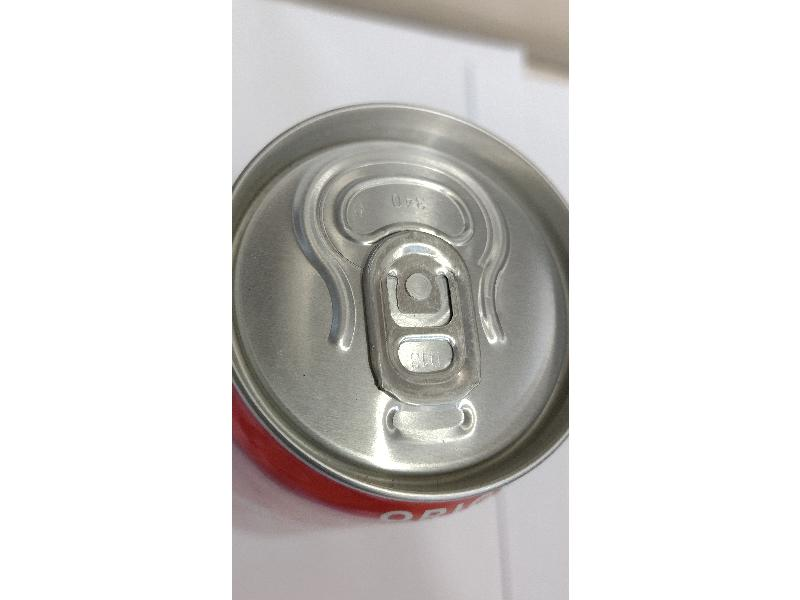can: (231, 99, 568, 522)
